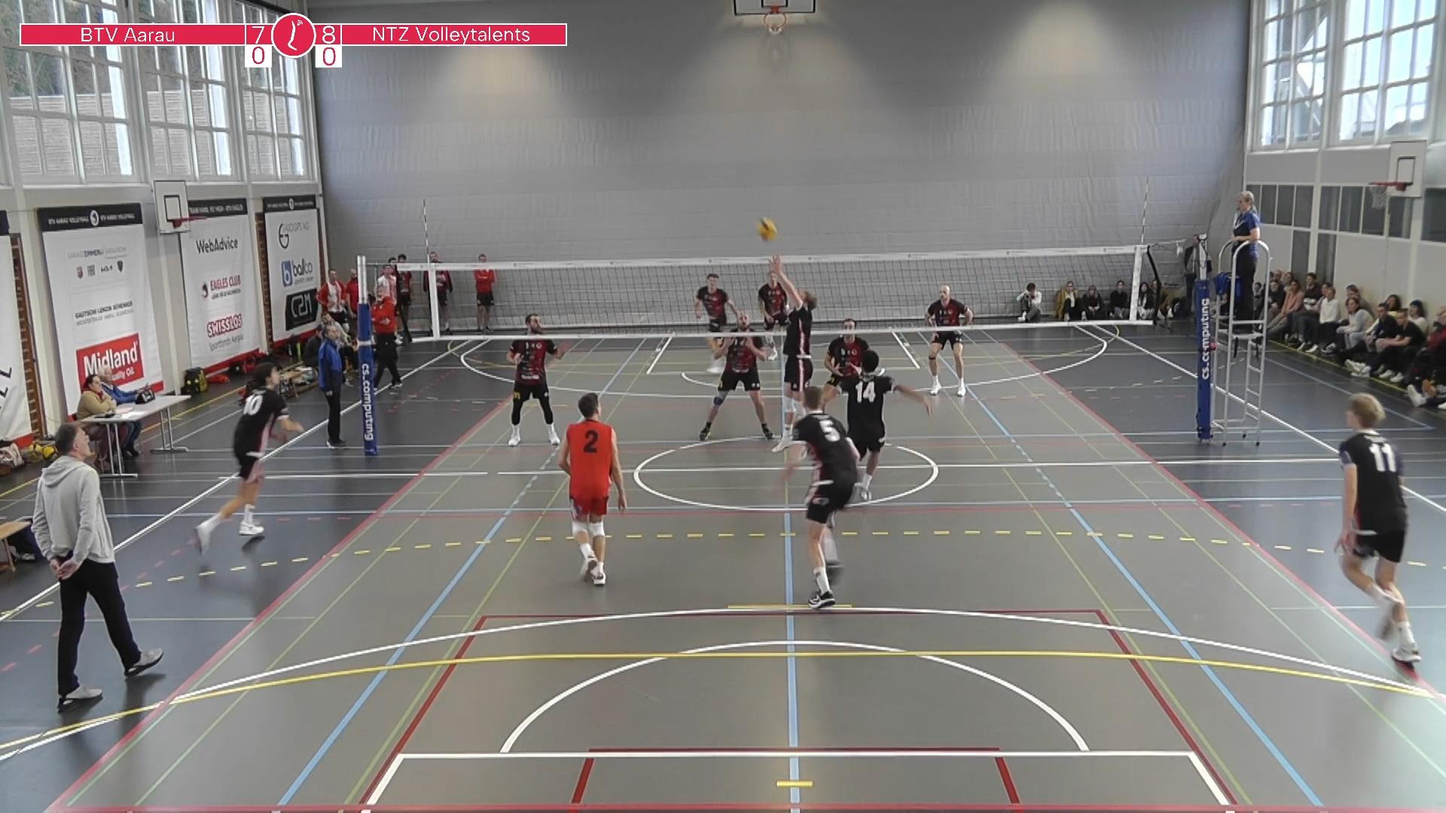Player: (1336, 393, 1420, 662), (197, 362, 302, 553), (784, 387, 858, 609), (842, 350, 932, 500), (559, 393, 626, 586), (507, 313, 565, 446), (699, 336, 773, 440), (926, 286, 972, 397), (824, 318, 868, 402), (694, 273, 737, 332), (758, 273, 788, 330)
Set: (764, 253, 826, 456)
